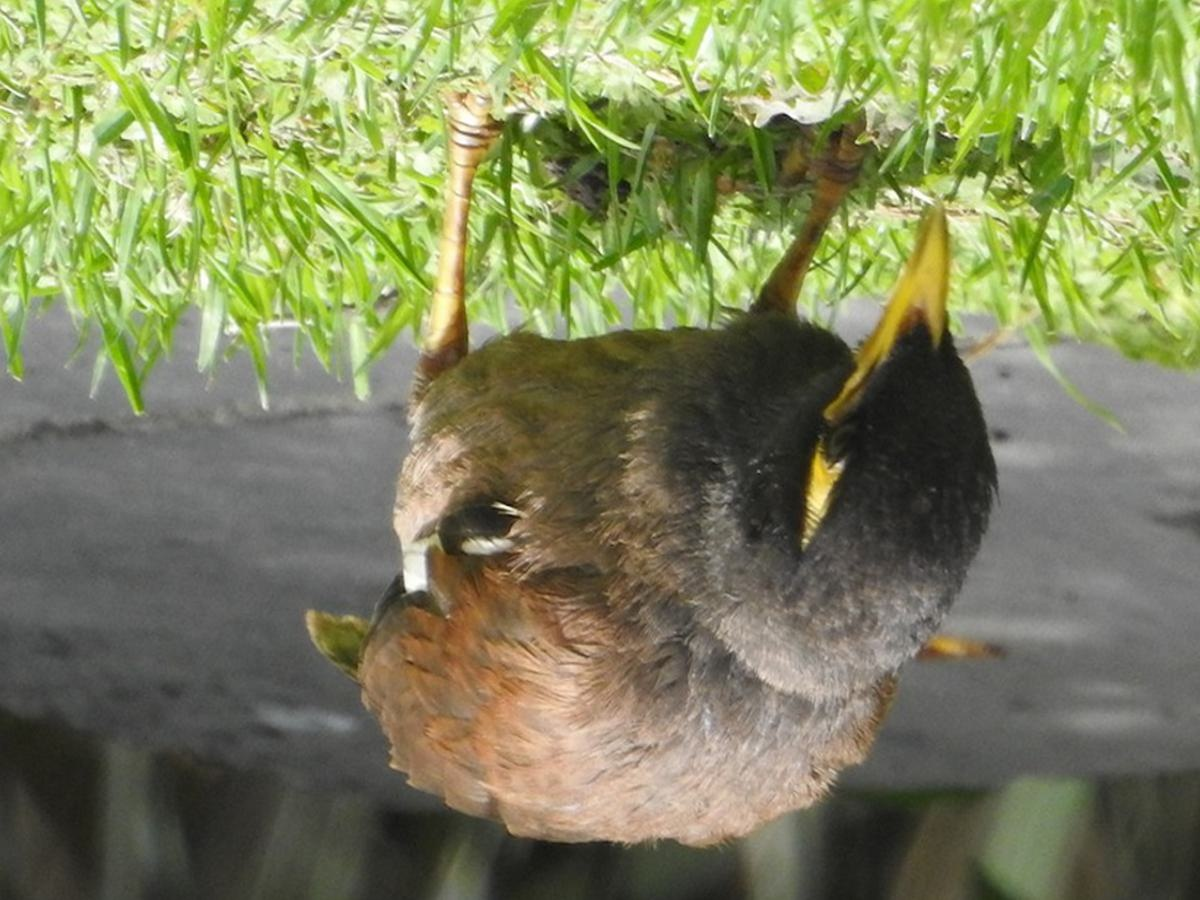myna: (354, 66, 1011, 843)
